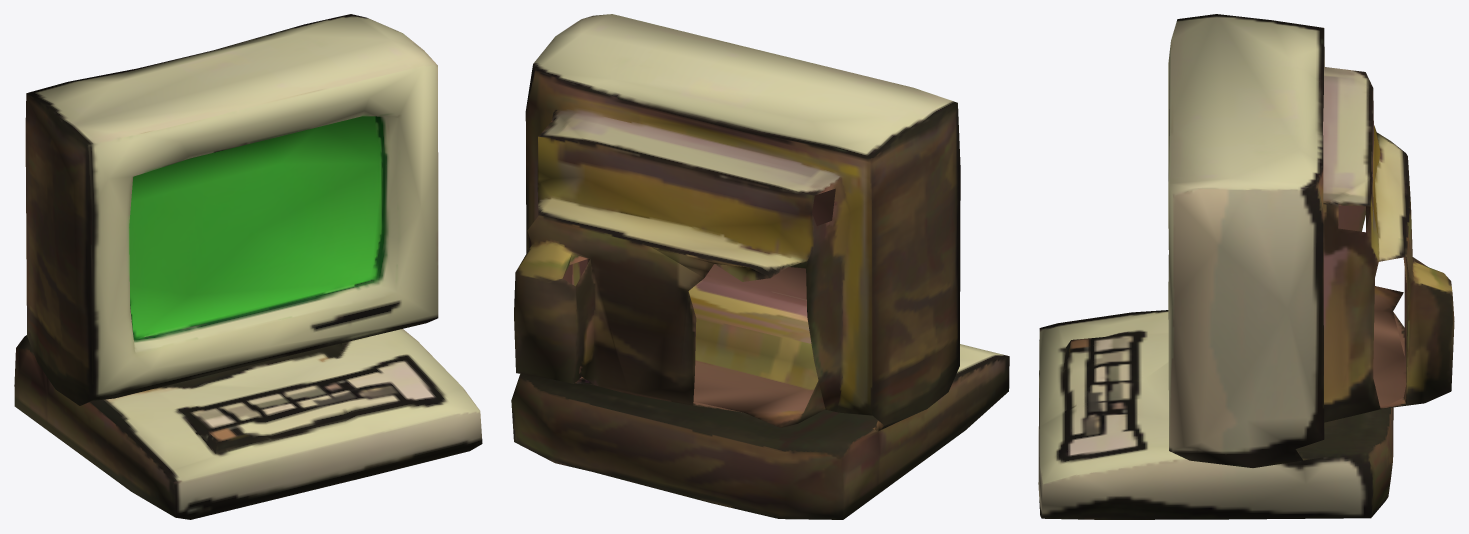
File: console.glb
3 views of the same model, side by side, from view 1: azimuth 30°, elevation 25°; view 2: azimuth 150°, elevation 25°; view 3: azimuth 270°, elevation 25° (orthographic). The views are drawn at different scales.
Parts seen in each view (by area): view 1: geometry_0.001; view 2: geometry_0.001; view 3: geometry_0.001.
Boxes of the visible parts, x1,y1,x2,y2 form: geometry_0.001: [14, 14, 482, 519]; geometry_0.001: [511, 14, 1009, 519]; geometry_0.001: [1038, 14, 1454, 519].
Bounding box in the file's own units: 0.998 × 0.9158 × 0.9928.
1 material, 1 textured.
